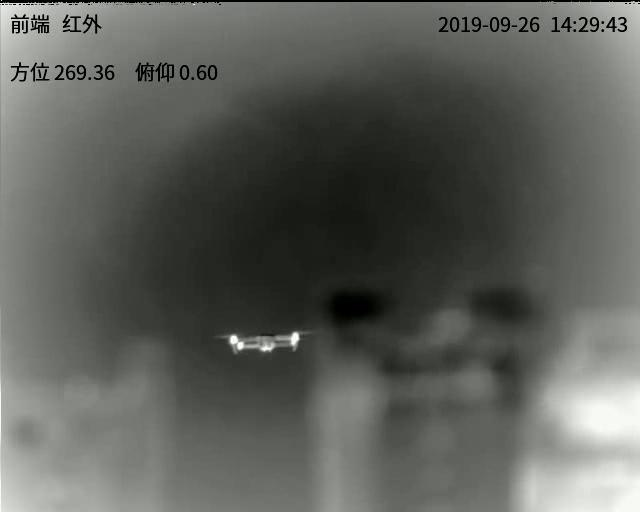DRONE: (215, 328, 316, 355)
